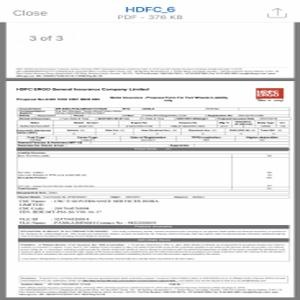image: (255, 86, 284, 103)
table: (15, 146, 291, 198), (14, 105, 291, 147)
text: (16, 199, 163, 227)
